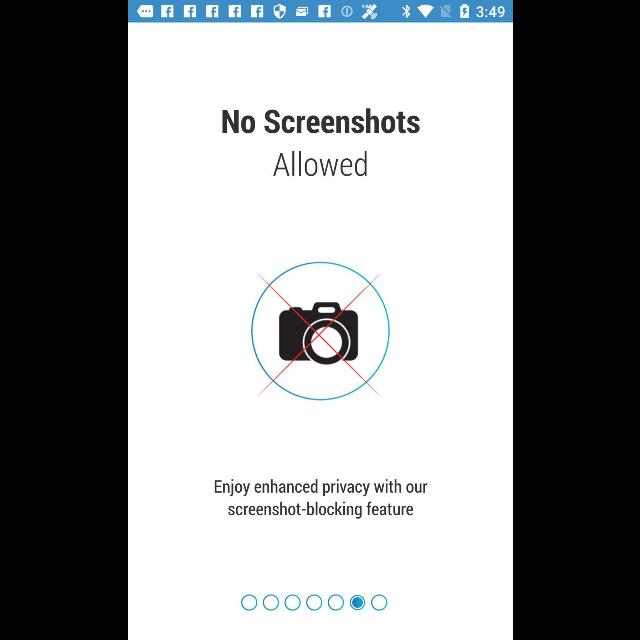image: (250, 262, 390, 401)
pageindicator: (241, 594, 387, 610)
text: (214, 479, 426, 519), (222, 108, 418, 134), (272, 152, 366, 176)
uppertaskbar: (128, 1, 512, 23)
